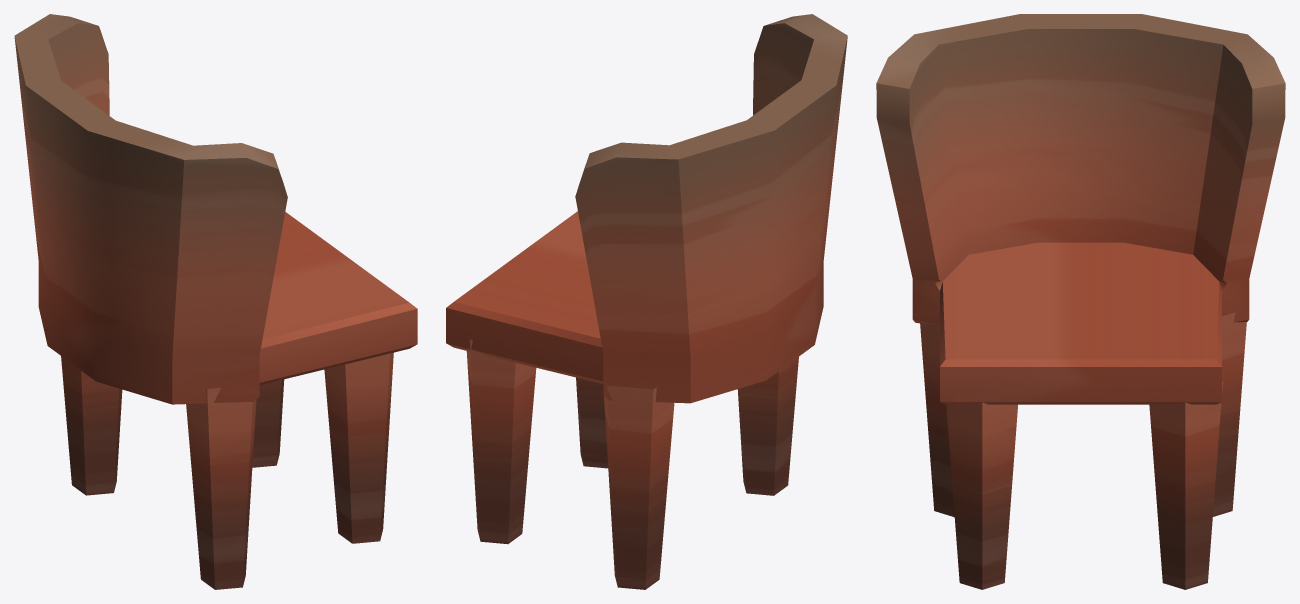
Rendered from Chair.fbx.
3 renders of one model, left to right at view 1: azimuth 30°, elevation 25°; view 2: azimuth 150°, elevation 25°; view 3: azimuth 270°, elevation 25°, orthographic.
Parts seen in each view (by area): view 1: pCylinder13; view 2: pCylinder13; view 3: pCylinder13.
Boxes of the visible parts, x1,y1,x2,y2 form: pCylinder13: (14, 14, 417, 589); pCylinder13: (446, 14, 847, 589); pCylinder13: (876, 14, 1285, 589).
Size of the model in its own units: 249 by 372 by 311.
